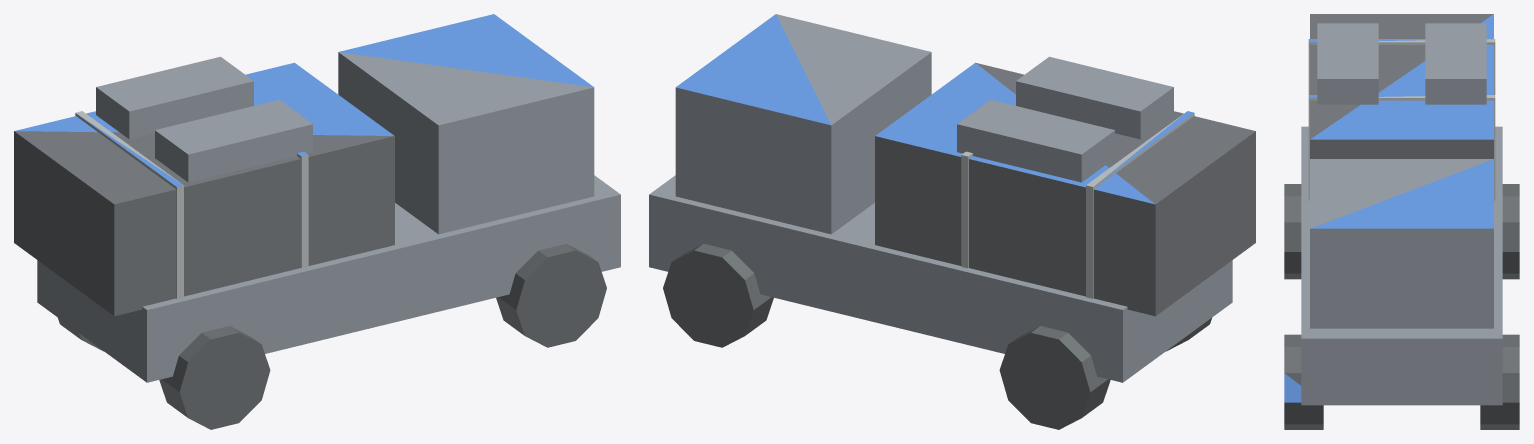
Rendered from veyran_supply_truck.glb.
3 renders of one model, left to right at view 1: azimuth 30°, elevation 25°; view 2: azimuth 150°, elevation 25°; view 3: azimuth 270°, elevation 25°, orthographic. The views are drawn at different scales.
Parts seen in each view (by area): view 1: hull; view 2: hull; view 3: hull.
Boxes of the visible parts, x1,y1,x2,y2 form: hull: (14,14,620,429); hull: (649,14,1255,429); hull: (1284,14,1519,429).
Size of the model in its own units: 5.63 by 2.83 by 2.5.
